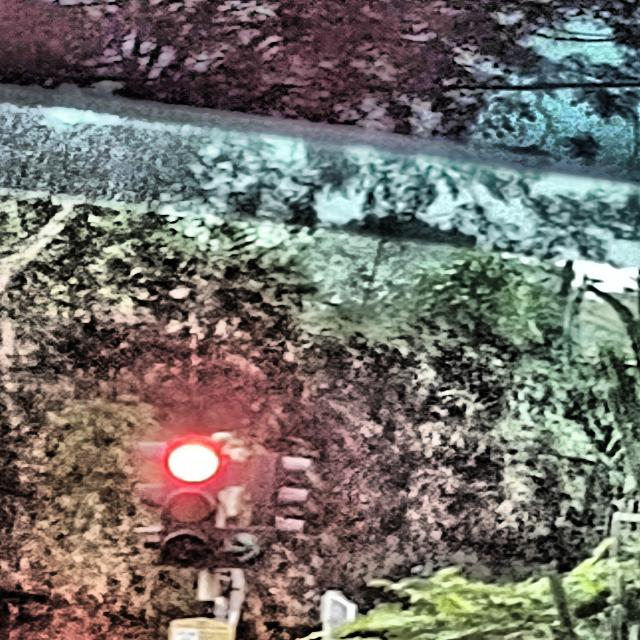red: (161, 437, 221, 568)
